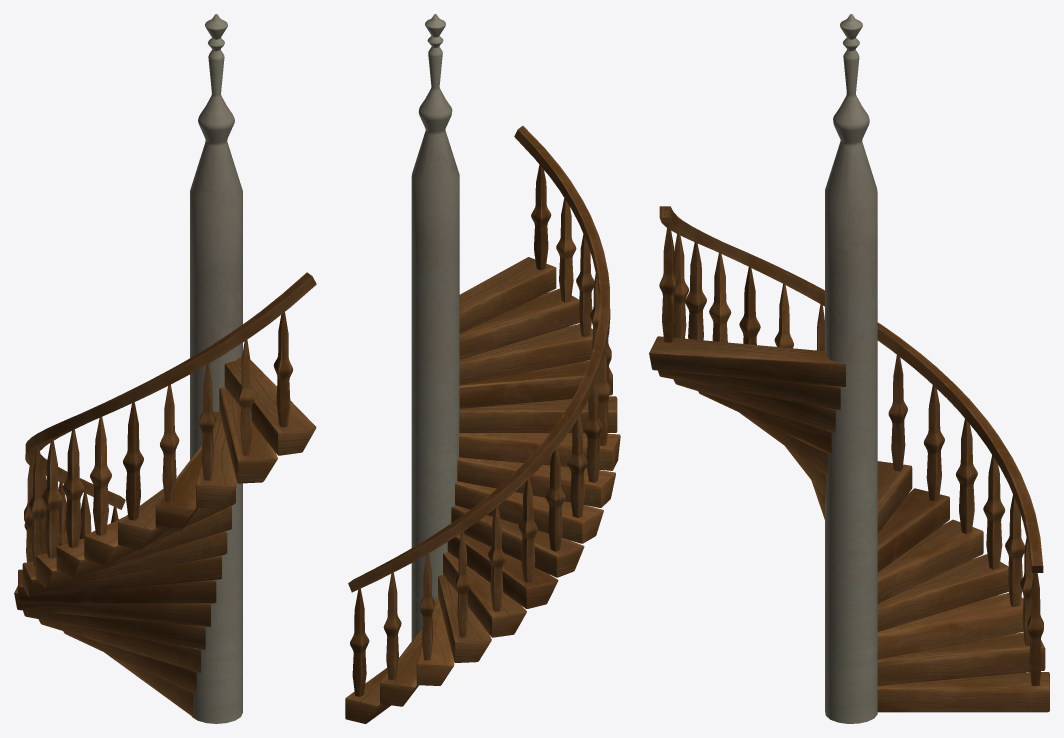
File: SM_Stairs_Spiral_End.gltf
3 renders of one model, left to right at view 1: azimuth 30°, elevation 25°; view 2: azimuth 150°, elevation 25°; view 3: azimuth 270°, elevation 25°, orthographic. The views are drawn at different scales.
Visible parts, largest first — view 1: SM_Stairs_Spiral_End; view 2: SM_Stairs_Spiral_End; view 3: SM_Stairs_Spiral_End.
Part boxes in pixels (x1,y1,x2,y2): SM_Stairs_Spiral_End: (14, 14, 316, 723); SM_Stairs_Spiral_End: (345, 14, 620, 723); SM_Stairs_Spiral_End: (649, 14, 1049, 723).
Size of the model in its own units: 1.72 by 5.82 by 3.03.
2 materials, 2 textured.
